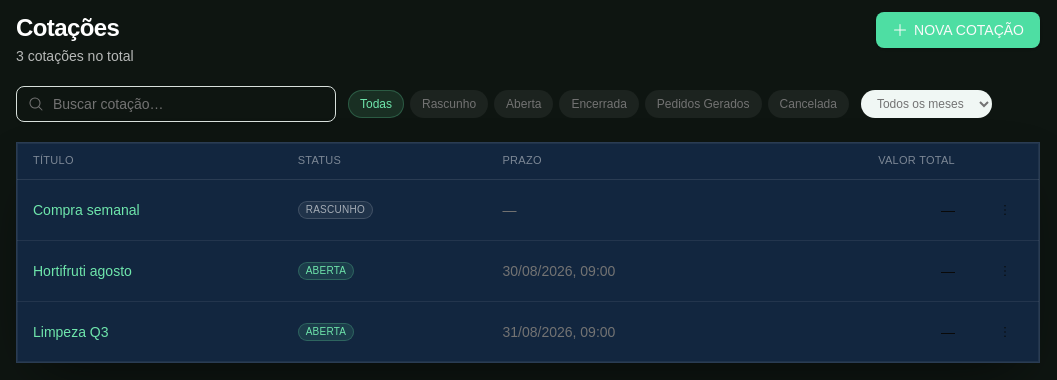
Test: filtrar por mês esconde cotações sem prazo e de outros meses
Expected: the link "Compra semanal" is shown, [33,202,140,218]
Step 1. Select "Agosto de 2026" in the dropdown named "Filtrar por mês do prazo" → [926, 104], box [861,90,992,118]
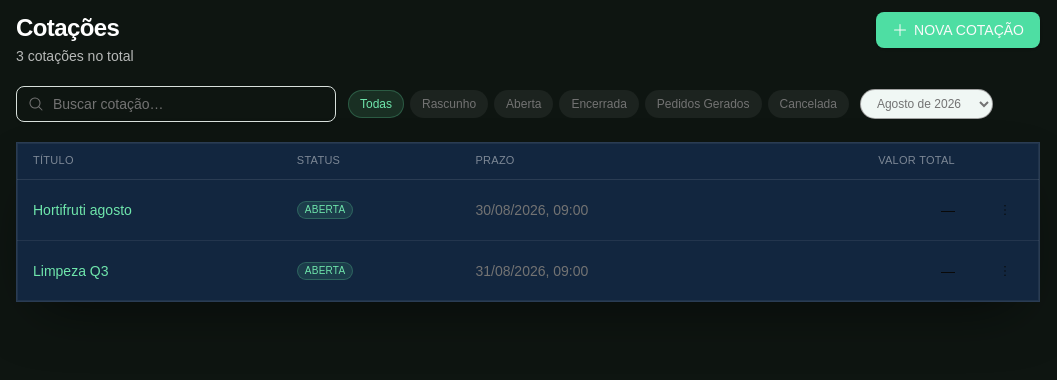
Expected: the link "Hortifruti agosto" is shown, [33,202,132,218]
Expected: the link "Compra semanal" is gone
